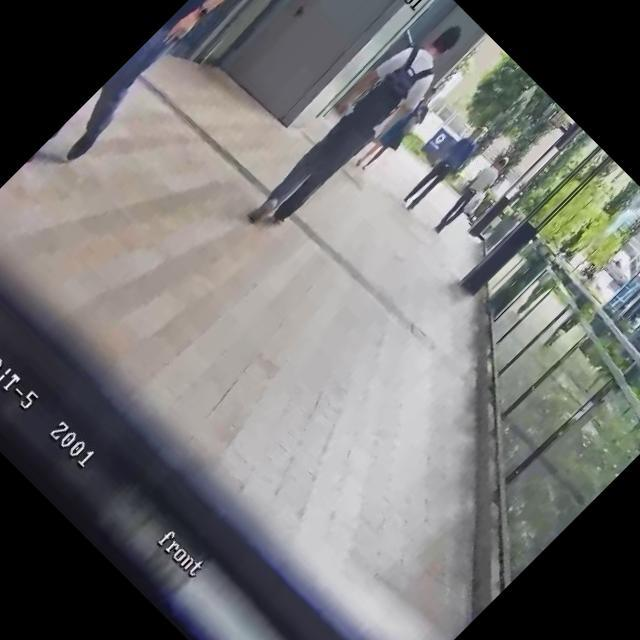person: (234, 2, 481, 250), (26, 0, 316, 186), (397, 118, 493, 214), (354, 86, 443, 176), (427, 150, 514, 237)
